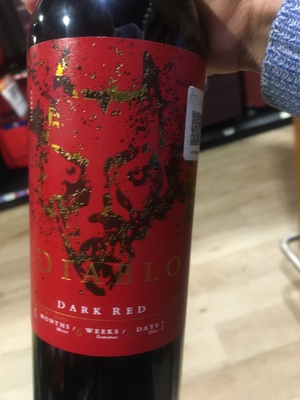diablo dark red: (28, 18, 214, 400)
